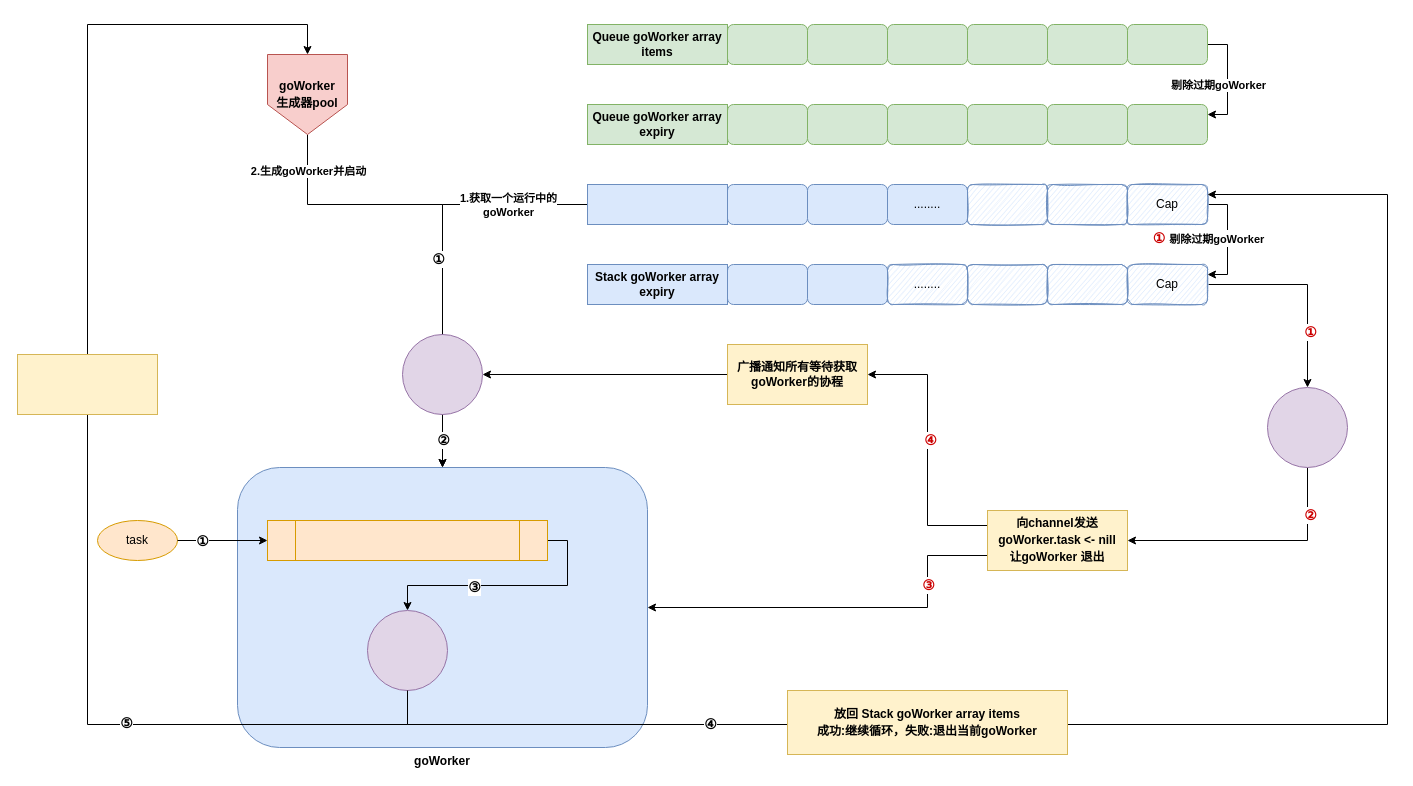
The diagram is 1413 pixels wide and 786 high, and some of its shapes have lost their labels. Each missing label, with the centre of its shape:
"Channel (cap: 0 or 1)" belongs at (407,540).
"goWorker 退出 放回生成器pool" belongs at (87,384).
"purge Periodically 循环扫描" belongs at (1307,427).
"Stack goWorker array items" belongs at (657,204).
"可能阻塞获取 goWorker" belongs at (442,374).
"循环获取 task执行" belongs at (407,650).
